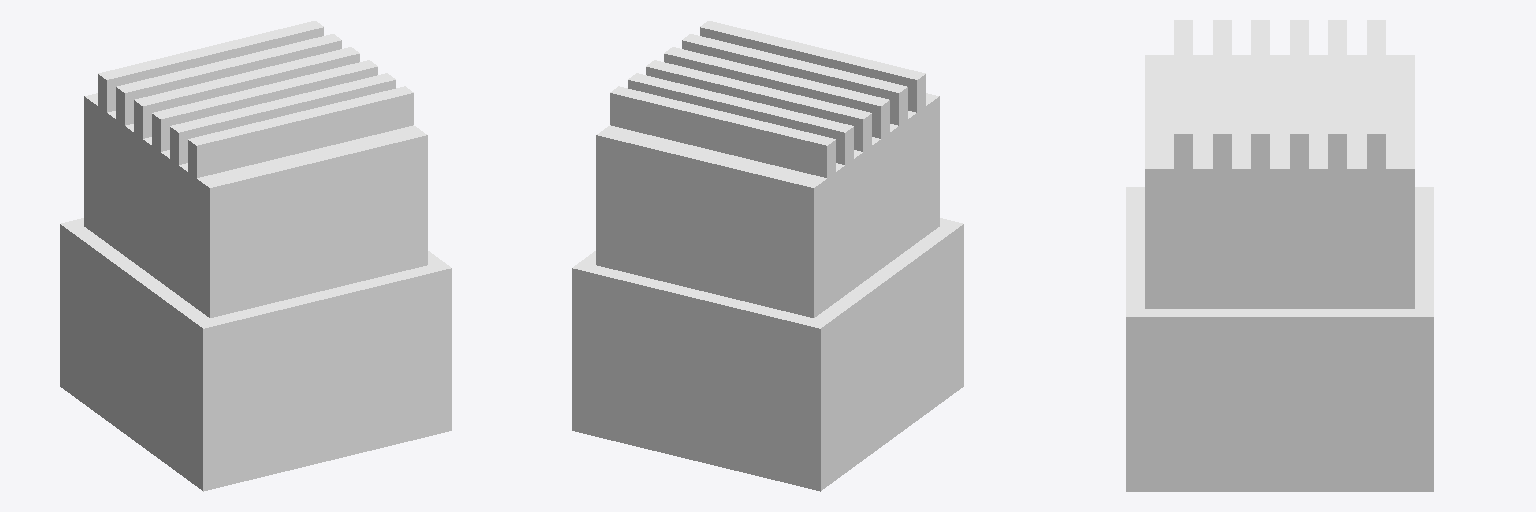
The robot description file, URDF, robot "parallel_lines":
<robot name="parallel_lines">
	<link name="_name">
		<visual>
			<origin rpy="0 0 0" xyz="0.0 0.0 -0.008832402234636872" />
			<geometry>
				<mesh filename="parallel_lines.obj" scale=".001 .001 .001" />
			</geometry>
			<material name="texture">
				<color rgba="1.0 1.0 1.0 1.0" />
			</material>
		</visual>
		<collision>
			<geometry>
				<mesh filename="parallel_lines_vhacd.obj" scale=".001 .001 .001" />
			</geometry>
		<origin rpy="0 0 0" xyz="0.0 0.0 -0.008832402234636872" /></collision>
		<inertial>
			<mass value="1.0" />
			<inertia ixx="1.0" ixy="0.0" ixz="0.0" iyy="1.0" iyz="0.0" izz="1.0" />
		</inertial>
	</link>
</robot>

--- Render facts (derived) ---
Views: 3 orthographic renders of the robot side by side, from view 1: azimuth 30°, elevation 25°; view 2: azimuth 150°, elevation 25°; view 3: azimuth 270°, elevation 25°.
Robot: parallel_lines — 1 links, 0 joints (none); root link _name; default pose: every joint at zero.
Visible links, largest first — view 1: _name; view 2: _name; view 3: _name.
Link boxes in pixels (x1=…): _name: x1=60, y1=21, x2=451, y2=491; _name: x1=572, y1=21, x2=963, y2=491; _name: x1=1126, y1=20, x2=1433, y2=491.
Bounding box of the posed robot: 0.016 × 0.016 × 0.02 m (x, y, z).
1 mesh visuals loaded from 1 distinct referenced files (1 OBJ).